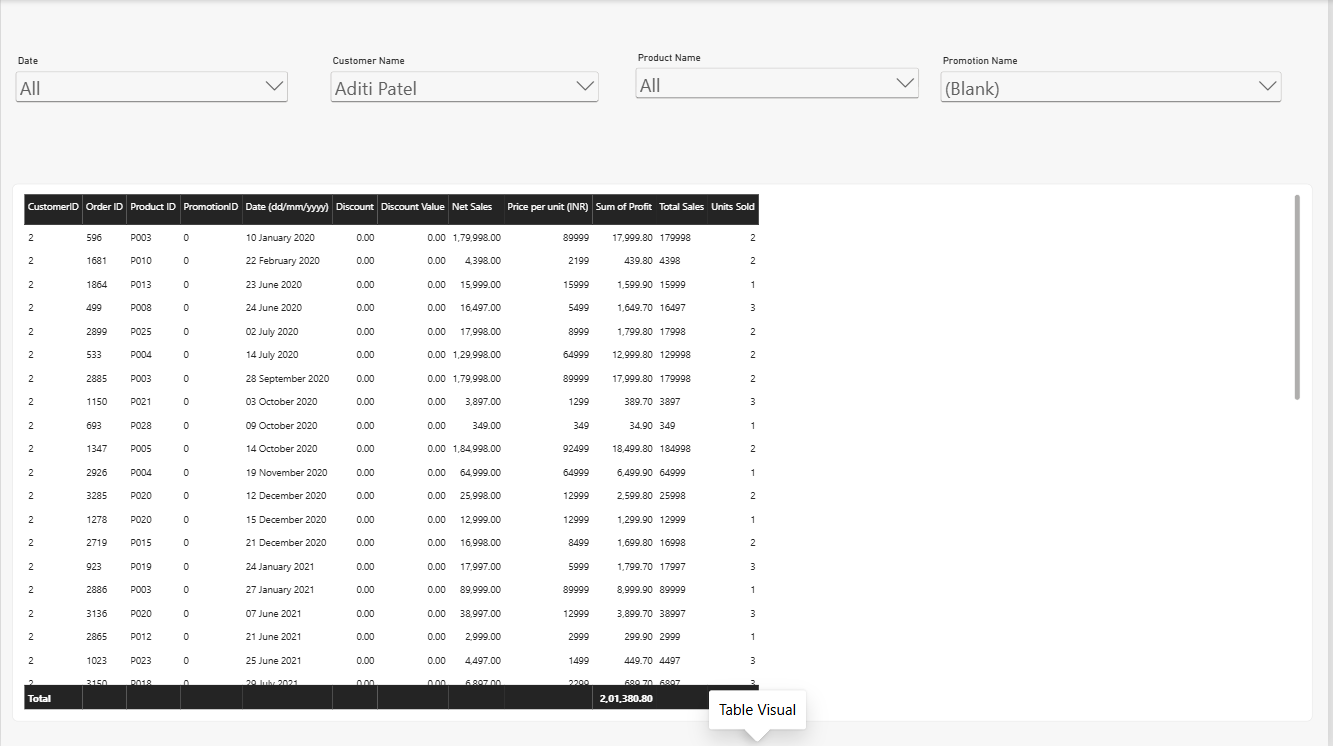

Layout of this report page (visuals, bound fields, positions):
{"tool":"powerbi","page":{"name":"Table Visual","canvas":[1920,1080],"ordinal":4},"visuals":[{"type":"tableEx","fields":{"Values":["Fact Table.CustomerID","Fact Table.Order ID","Fact Table.Product ID","Fact Table.PromotionID","Fact Table.Date (dd/mm/yyyy)","Fact Table.Discount","Fact Table.Discount Value","Fact Table.Net Sales  ","Fact Table.Price per unit (INR)","Sum(Fact Table.Profit)","Fact Table.Total Sales  ","Fact Table.Units Sold"]},"box":[16.3,266,1882,778.2],"z":0},{"type":"slicer","fields":{"Values":["Date Table 1.Date"]},"box":[16.9,80.4,404,126.9],"z":1},{"type":"slicer","fields":{"Values":["Dim Customers.Customer Name"]},"box":[472.3,79.6,398.1,128.5],"z":2},{"type":"slicer","fields":{"Values":["Dim Product.Product Name"]},"box":[913.9,74.2,419.8,133.9],"z":3},{"type":"slicer","fields":{"Values":["Dim Promotion.Promotion Name"]},"box":[1355.4,79.6,503.1,141.2],"z":4}]}

Visuals, with their boxes in screenshot pixels (x1, y1, x2, y2), scaled from the page's 1920x1080 canvas onto the 1333x746 screenshot:
tableEx - Fact Table.CustomerID x Fact Table.Order ID: locate(11, 184, 1318, 721)
slicer - Date Table 1.Date: locate(12, 56, 292, 143)
slicer - Dim Customers.Customer Name: locate(328, 55, 604, 144)
slicer - Dim Product.Product Name: locate(634, 51, 926, 144)
slicer - Dim Promotion.Promotion Name: locate(941, 55, 1290, 153)
